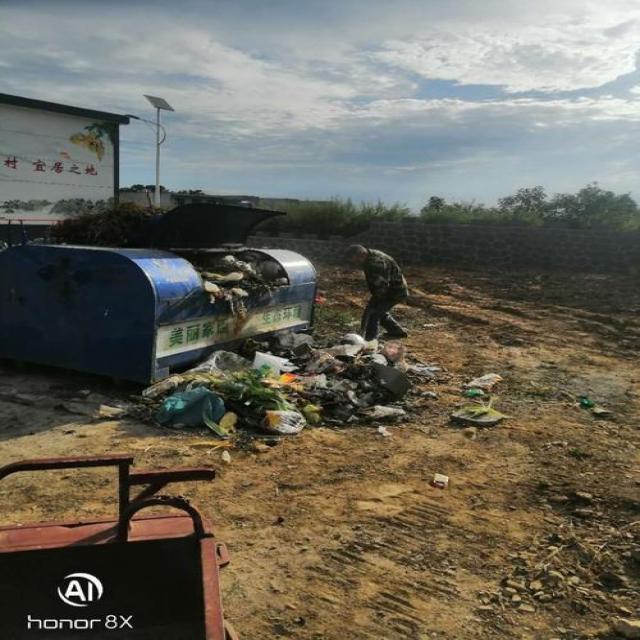garbage: (141, 328, 509, 432)
overflow: (0, 242, 316, 385)
